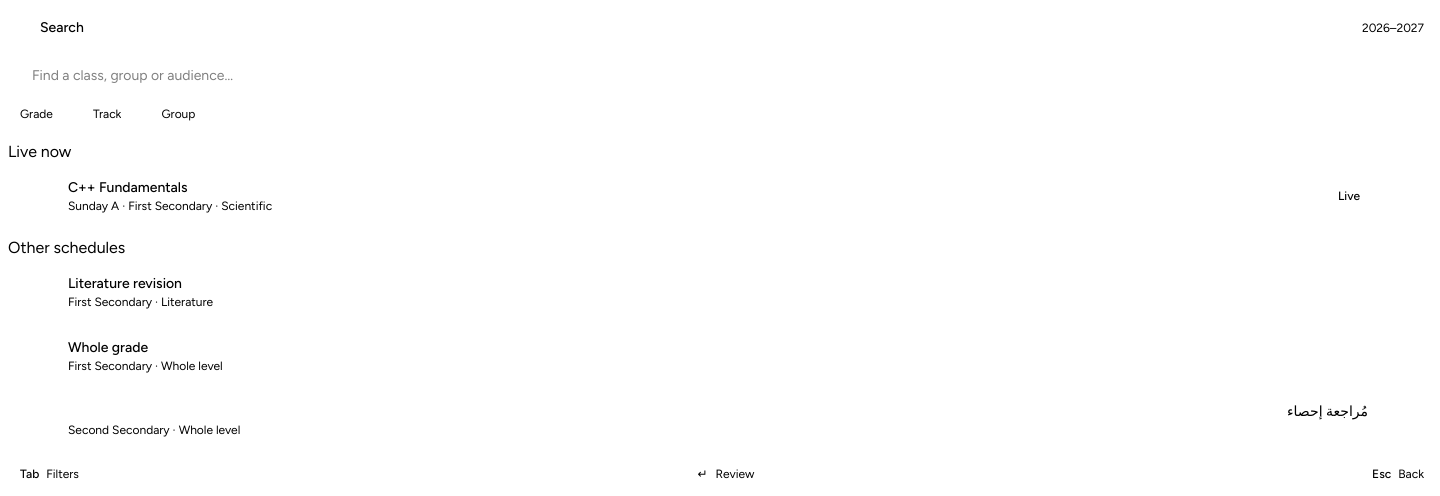
Test: loads all live pages and offers the existing session at review
In the dropdown named "Search schedules": (732, 76) [32,66,1432,86], type "C++"
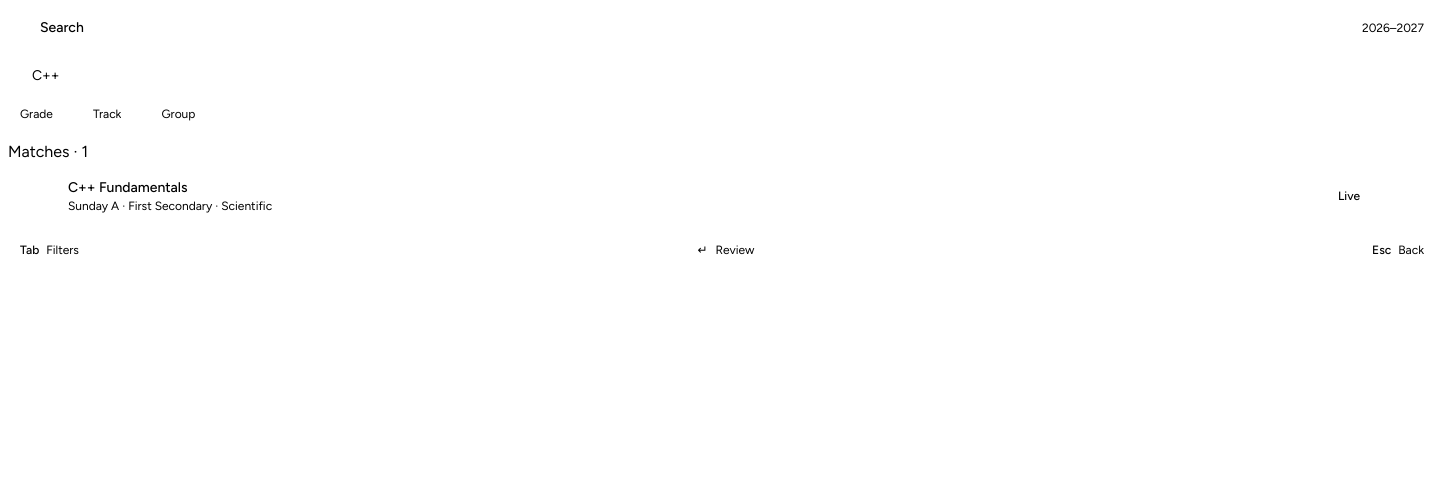
Press Enter in the dropdown named "Search schedules", box [32,66,1432,86]
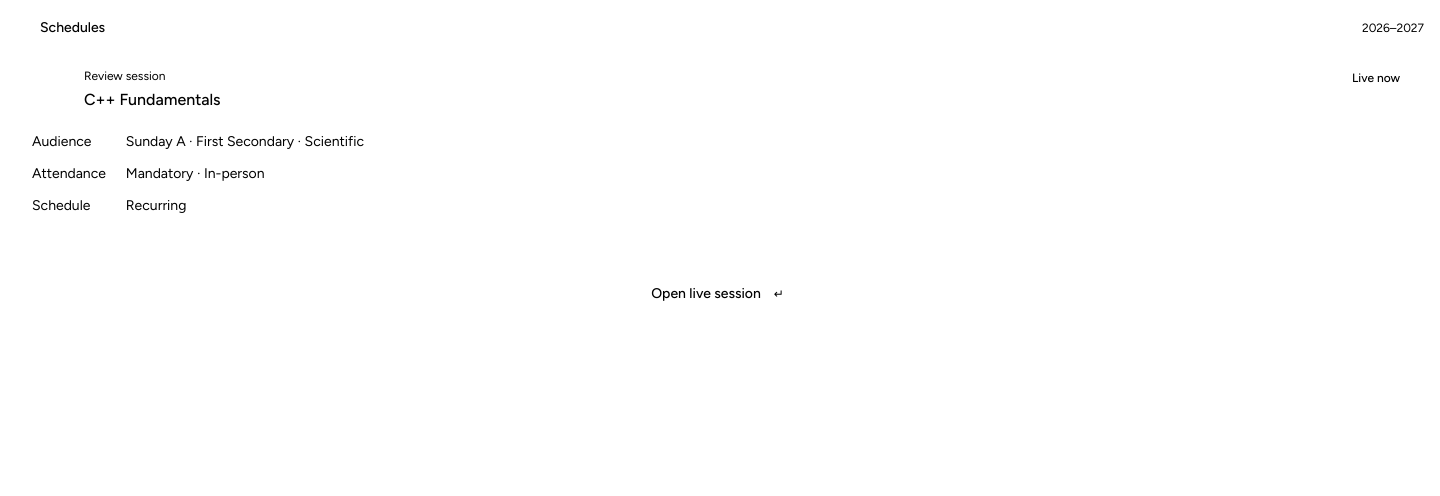
Now the button "Open live session ↵" is shown, box [16,276,1424,312]
